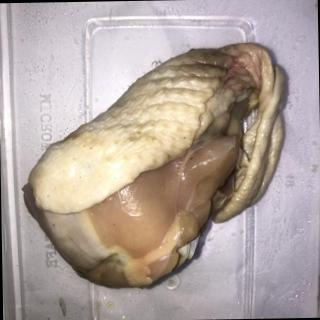Ayam: (18, 41, 290, 292)
